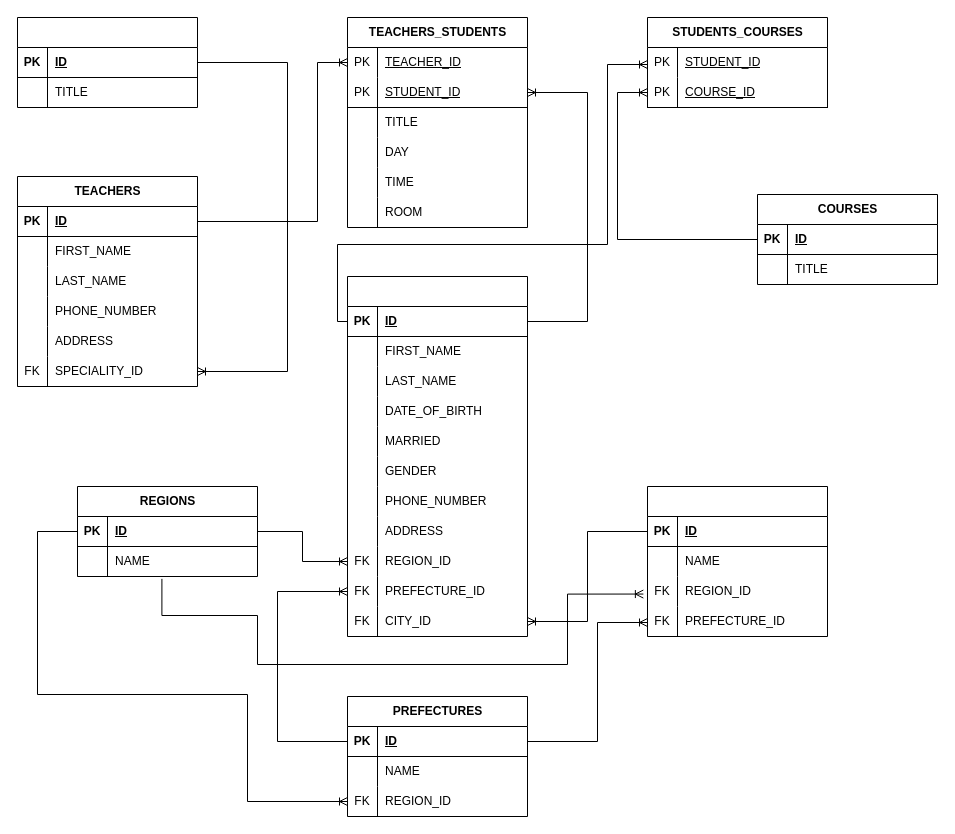
This 955x834 diagram has some shape labels left out. The shapes that lost their labels are listed below. From the top down, each one's box as (x1, y1, x2, y2) in pixels, then its label:
(16, 16, 198, 108): SPECIALITIES
(346, 276, 528, 636): STUDENTS
(646, 486, 828, 636): CITIES
